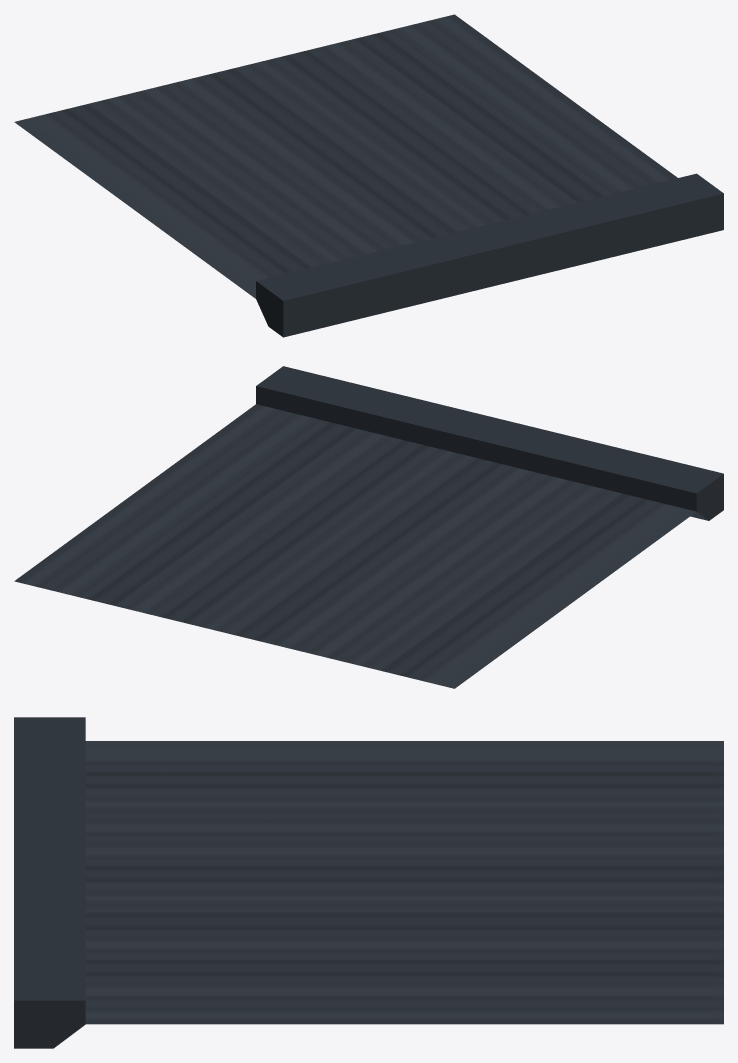
The model's file is SM_Bld_House_Roof_FlatLip_01.fbx.
3 renders of one model, top to bottom at view 1: azimuth 30°, elevation 25°; view 2: azimuth 150°, elevation 25°; view 3: azimuth 270°, elevation 25°, orthographic. The views are drawn at different scales.
Parts seen in each view (by area): view 1: SM_Bld_House_Roof_FlatLip_01; view 2: SM_Bld_House_Roof_FlatLip_01; view 3: SM_Bld_House_Roof_FlatLip_01.
Boxes of the visible parts, bbox=[...] form: SM_Bld_House_Roof_FlatLip_01: bbox=[14, 14, 723, 337]; SM_Bld_House_Roof_FlatLip_01: bbox=[14, 366, 723, 688]; SM_Bld_House_Roof_FlatLip_01: bbox=[14, 717, 723, 1048].
Bounding box in the file's own units: 250 × 19.81 × 265.
